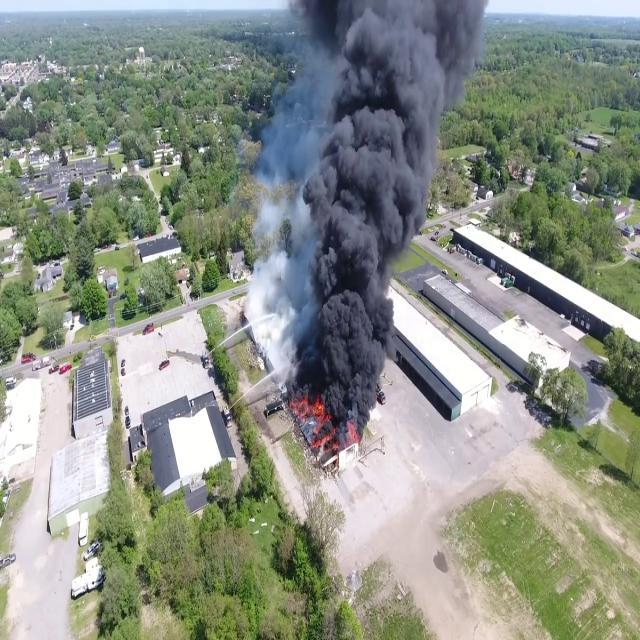Smoke: (243, 0, 488, 451)
